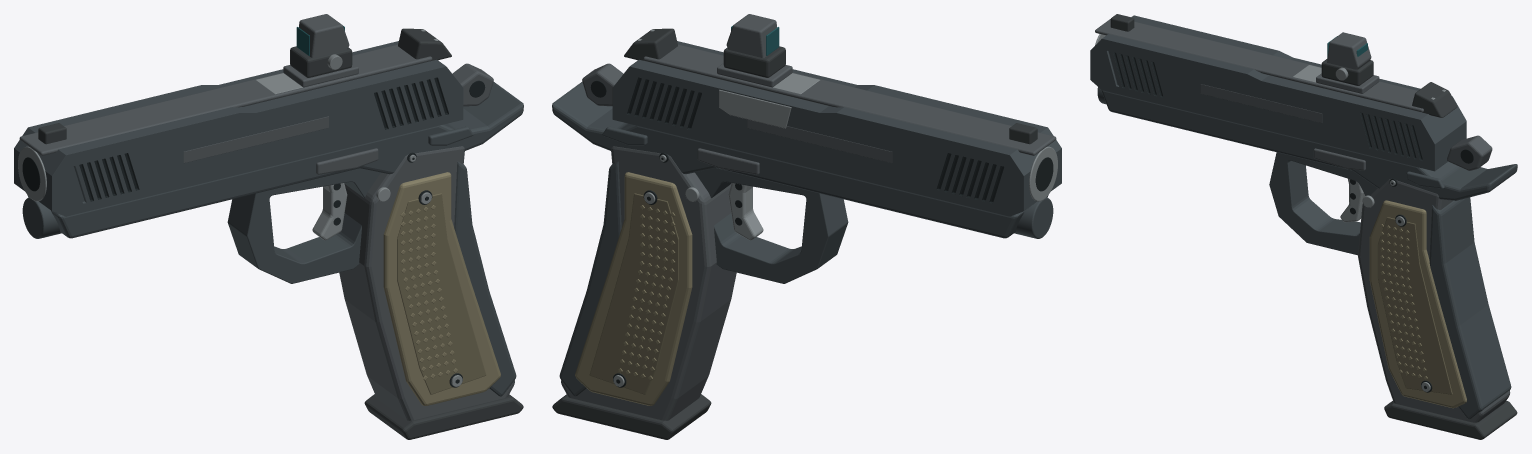
3 views of the same model, side by side, from view 1: azimuth 30°, elevation 25°; view 2: azimuth 150°, elevation 25°; view 3: azimuth 330°, elevation 25° (orthographic). The views are drawn at different scales.
Parts seen in each view (by area): view 1: part_slide_surfaces, part_frame_surfaces, part_grip_panels_surfaces, part_controls_surfaces, part_optic_surfaces, part_base_surfaces, part_front_surfaces, part_sights_surfaces; view 2: part_slide_surfaces, part_frame_surfaces, part_grip_panels_surfaces, part_controls_surfaces, part_optic_surfaces, part_base_surfaces, part_front_surfaces, part_sights_surfaces; view 3: part_frame_surfaces, part_slide_surfaces, part_grip_panels_surfaces, part_controls_surfaces, part_optic_surfaces, part_base_surfaces, part_sights_surfaces.
Part boxes in pixels (x1=…): part_slide_surfaces: x1=14, y1=41, x2=463, y2=216; part_frame_surfaces: x1=27, y1=82, x2=523, y2=420; part_grip_panels_surfaces: x1=383, y1=172, x2=500, y2=405; part_controls_surfaces: x1=312, y1=63, x2=493, y2=240; part_optic_surfaces: x1=283, y1=14, x2=358, y2=87; part_base_surfaces: x1=364, y1=394, x2=523, y2=439; part_front_surfaces: x1=18, y1=146, x2=61, y2=238; part_sights_surfaces: x1=38, y1=28, x2=451, y2=144; part_slide_surfaces: x1=612, y1=41, x2=1061, y2=216; part_frame_surfaces: x1=552, y1=82, x2=1048, y2=420; part_grip_panels_surfaces: x1=575, y1=172, x2=692, y2=405; part_controls_surfaces: x1=582, y1=63, x2=763, y2=240; part_optic_surfaces: x1=717, y1=14, x2=792, y2=87; part_base_surfaces: x1=552, y1=394, x2=711, y2=439; part_front_surfaces: x1=1014, y1=146, x2=1057, y2=238; part_sights_surfaces: x1=624, y1=28, x2=1037, y2=144; part_frame_surfaces: x1=1101, y1=89, x2=1517, y2=422; part_slide_surfaces: x1=1090, y1=15, x2=1466, y2=171; part_grip_panels_surfaces: x1=1369, y1=200, x2=1466, y2=408; part_controls_surfaces: x1=1313, y1=135, x2=1492, y2=222; part_optic_surfaces: x1=1316, y1=32, x2=1379, y2=93; part_base_surfaces: x1=1384, y1=400, x2=1517, y2=439; part_sights_surfaces: x1=1110, y1=14, x2=1457, y2=117.
Bounding box in the file's own units: 85.44 × 71.89 × 13.62.
